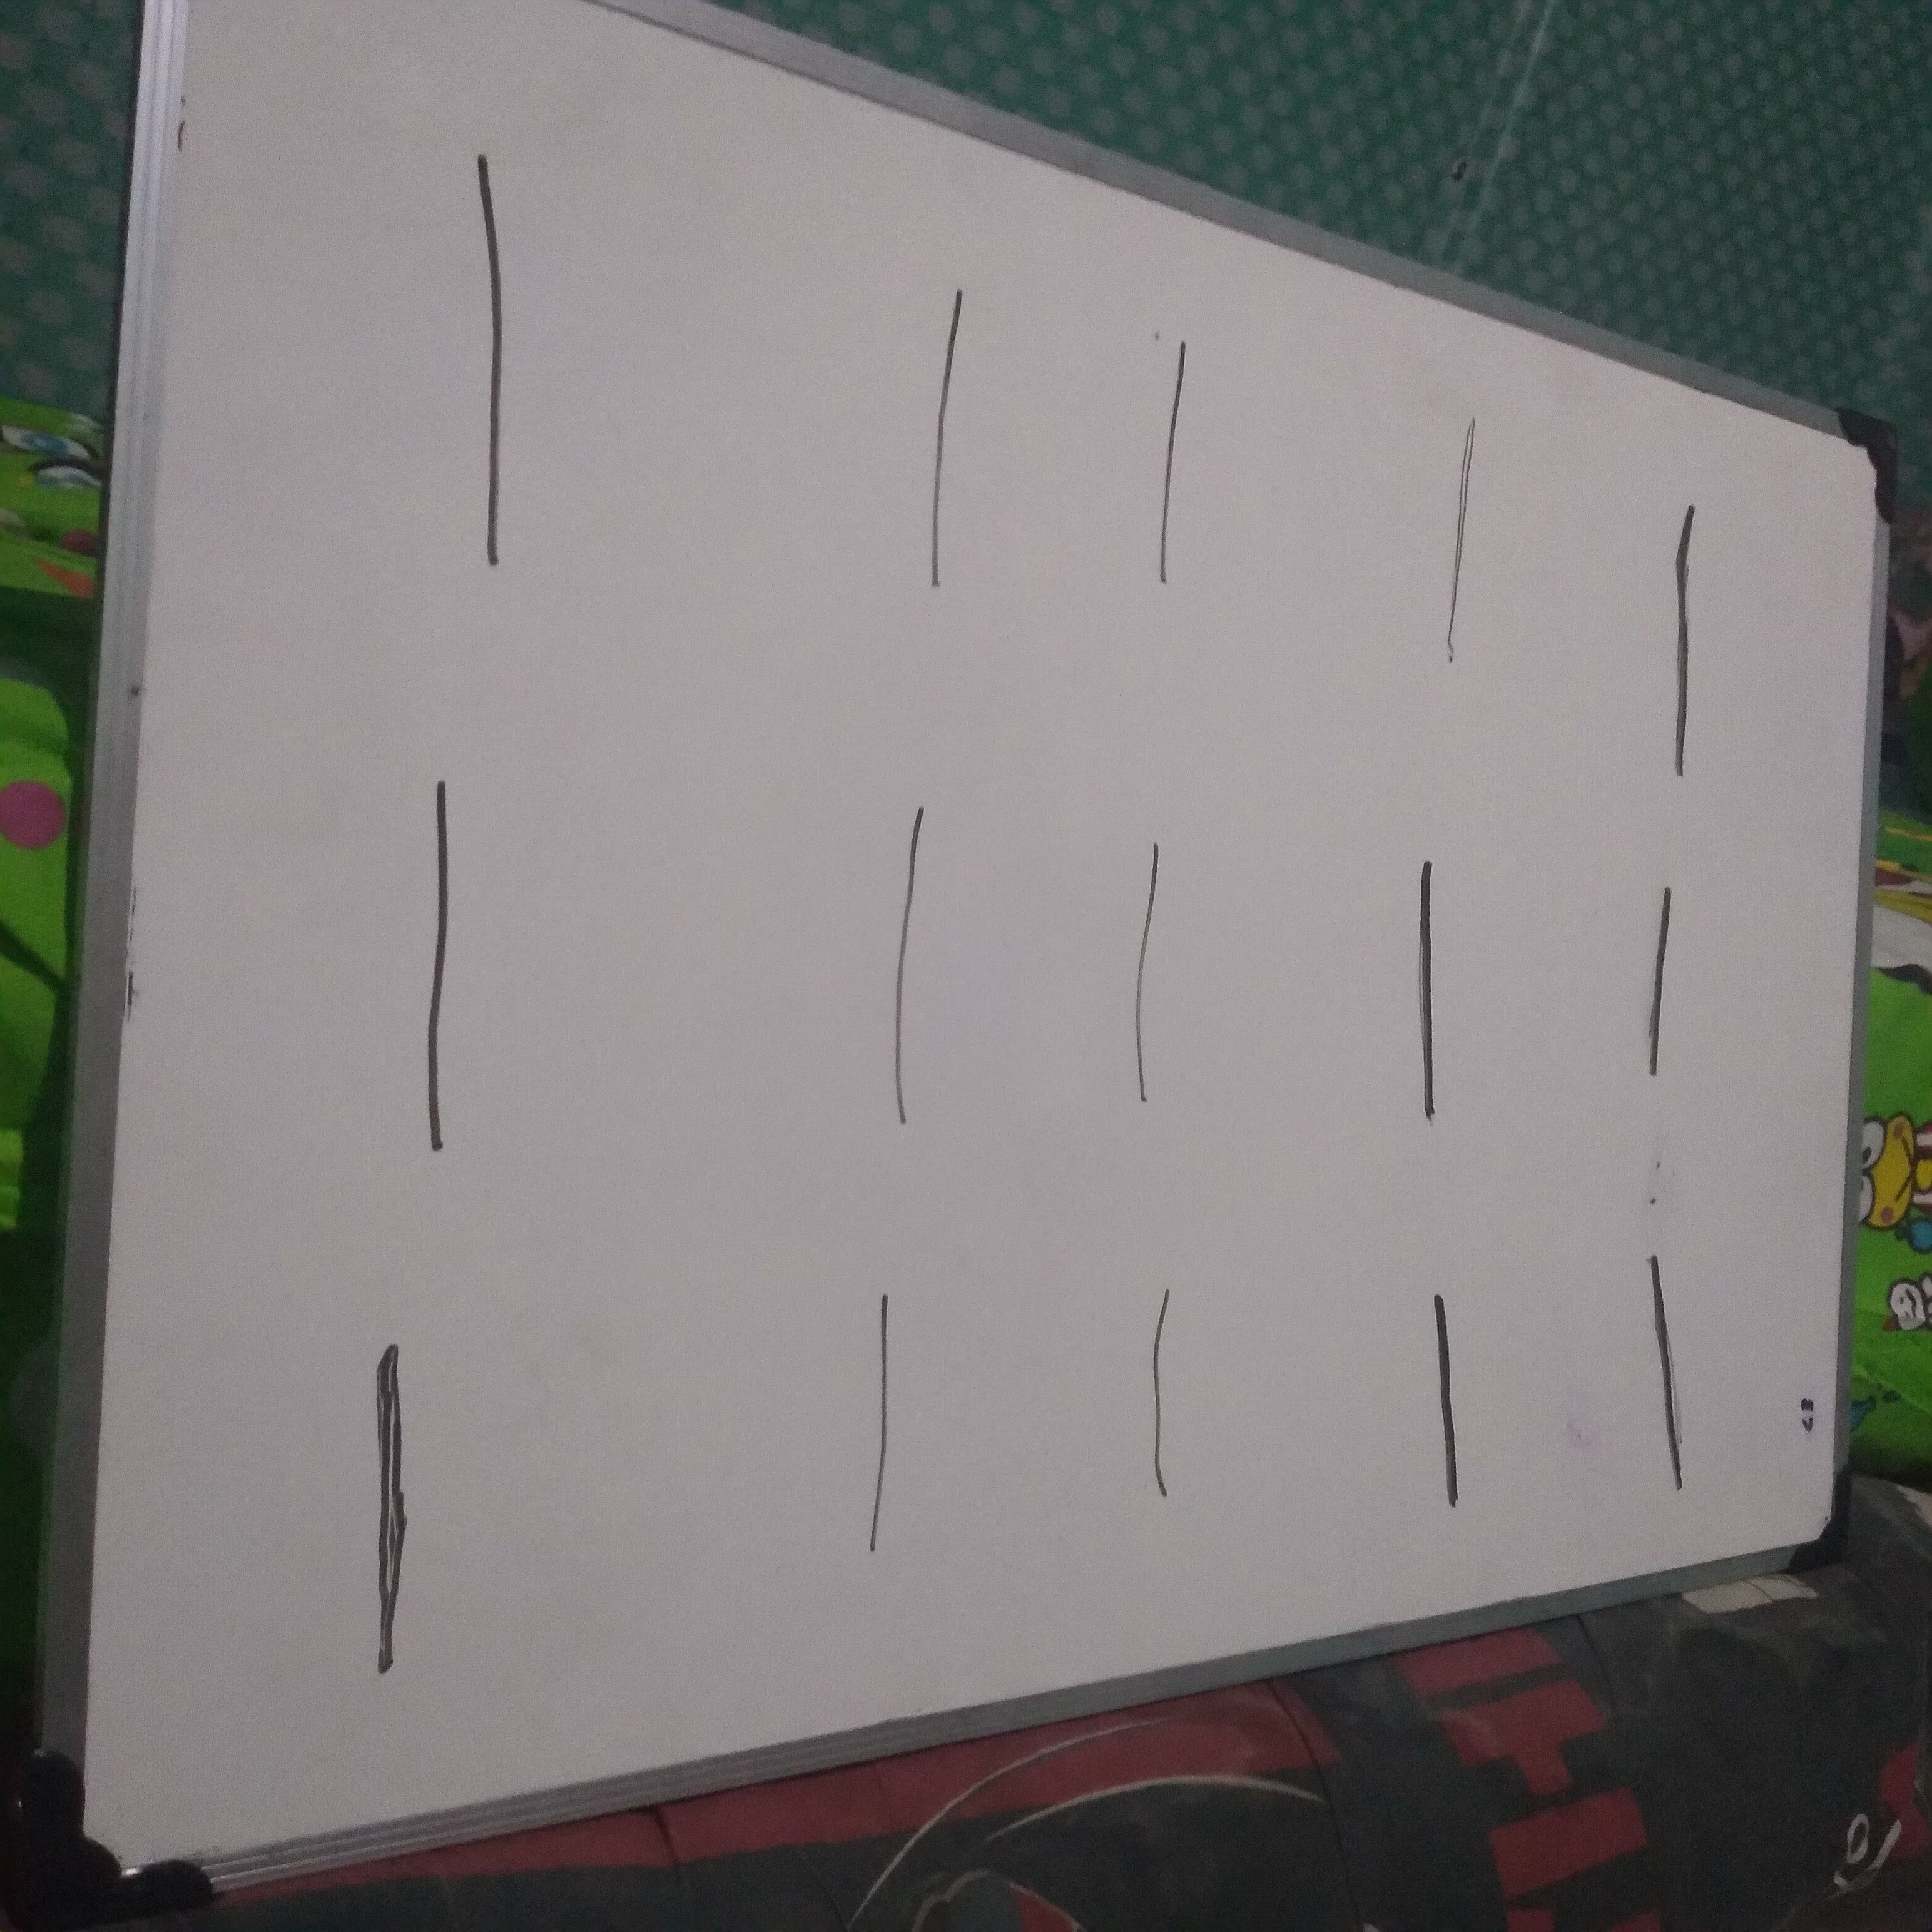num1: (466, 138, 523, 582), (883, 745, 940, 1189), (410, 736, 467, 1180), (918, 216, 975, 661), (1398, 736, 1455, 1180), (1654, 398, 1711, 842), (357, 1288, 414, 1732), (1633, 843, 1693, 1167), (857, 1265, 917, 1589), (1127, 1228, 1187, 1552), (1118, 800, 1178, 1124), (1428, 382, 1488, 706), (1416, 1251, 1476, 1575), (1637, 1202, 1697, 1526), (1137, 311, 1197, 635)
